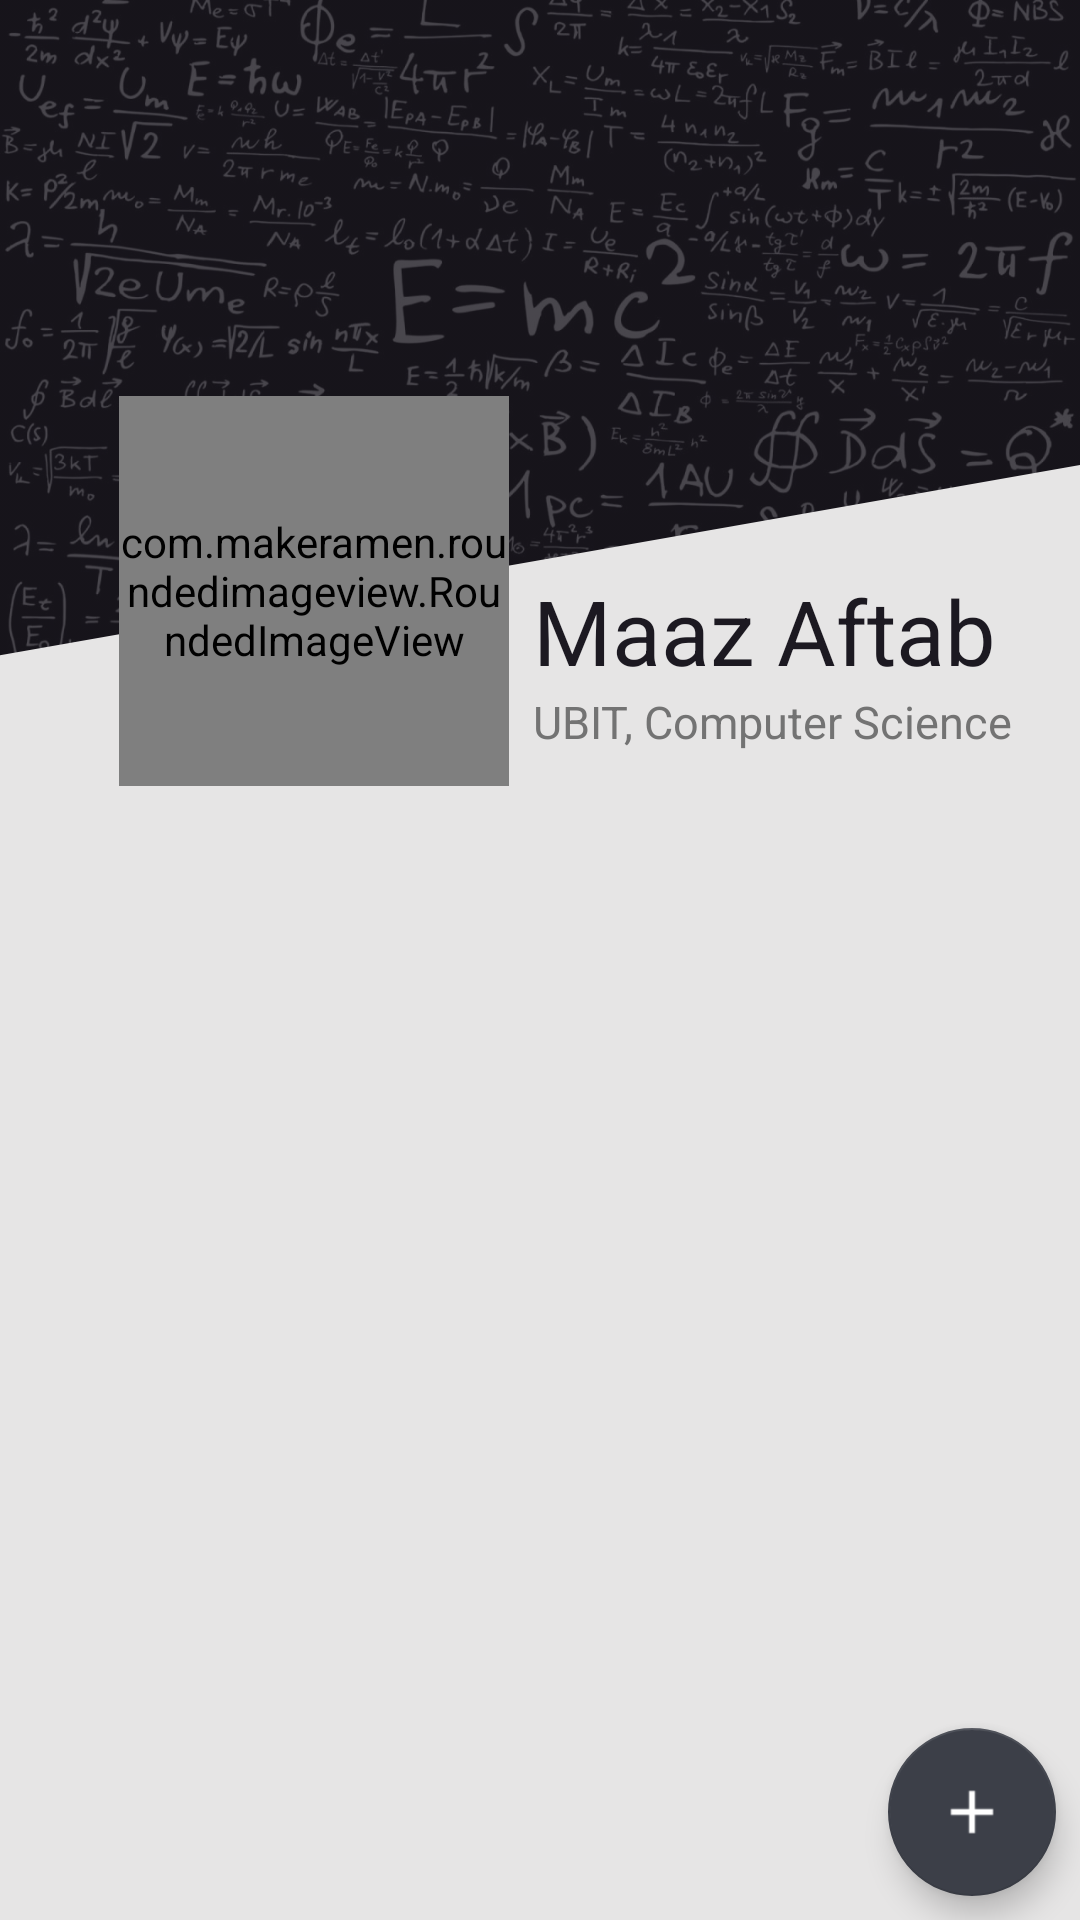

Icon bounding boxes for this 1080x1920 phone screenshot, format bbox=[x1, y1, x2, y2]:
plus: bbox=[888, 1728, 1056, 1896]
